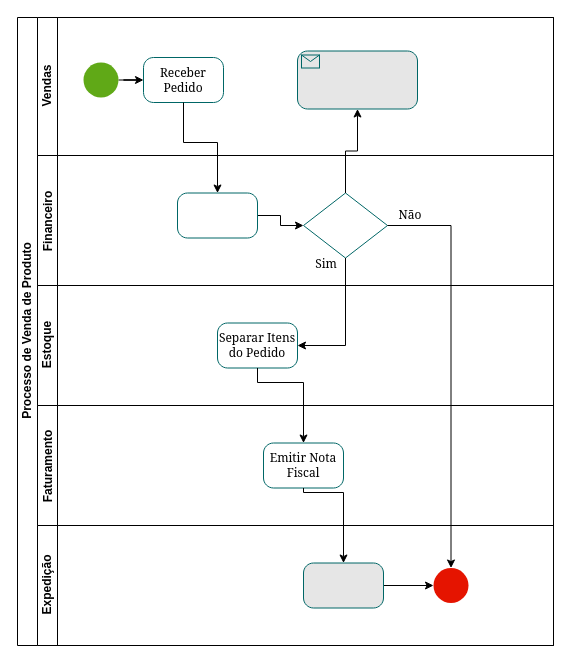
Some shapes in this 571 by 663 pixel diagram are drawn without their labels. Each missing label, with the centre of its shape:
Efetuado: the point at 345,225
Enviar Pedido: the point at 343,585
Revisar Pagamento: the point at 357,79
Verificar Pagamento: the point at 217,215
